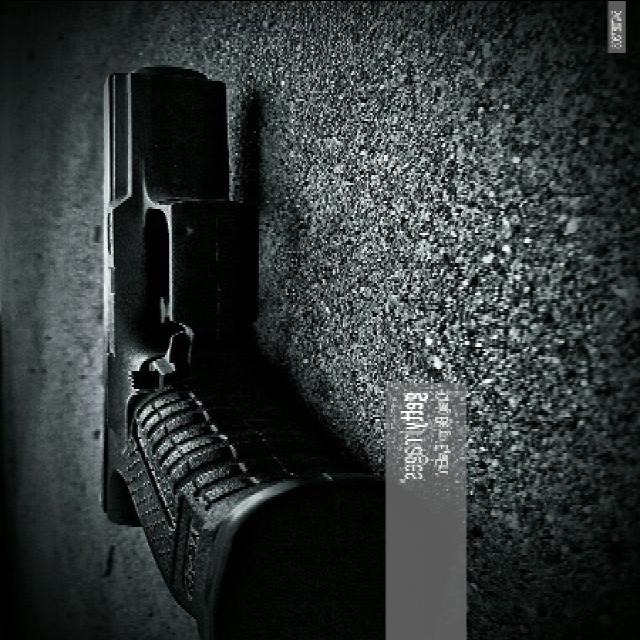handgun: (95, 59, 324, 637)
